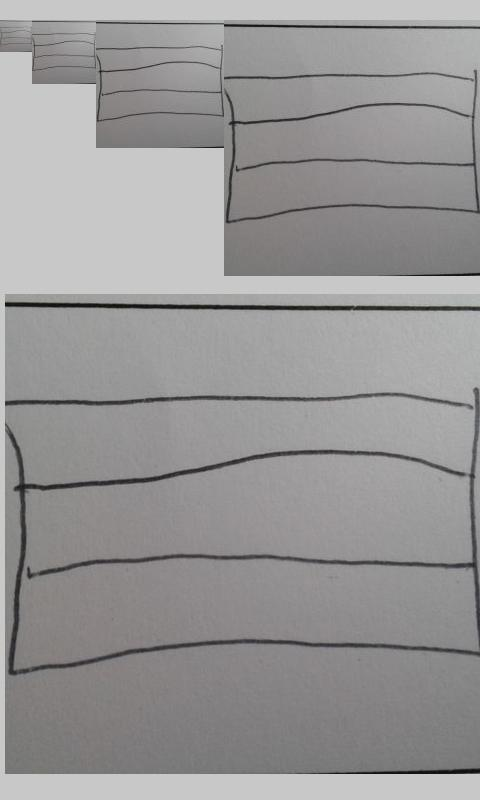list_view: (8, 389, 480, 677), (224, 71, 478, 220), (96, 45, 223, 122), (32, 32, 96, 71), (1, 26, 32, 46)
